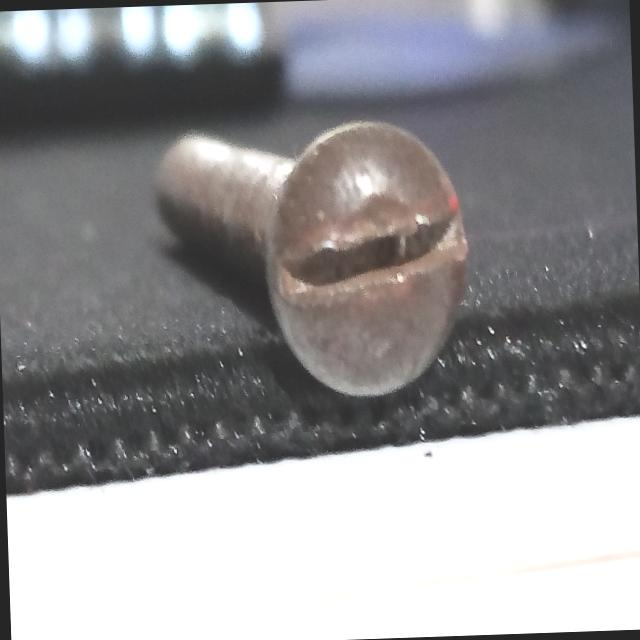Slotted: (258, 137, 488, 412)
